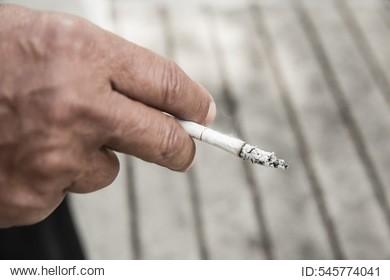Cigarette: (172, 115, 289, 171)
